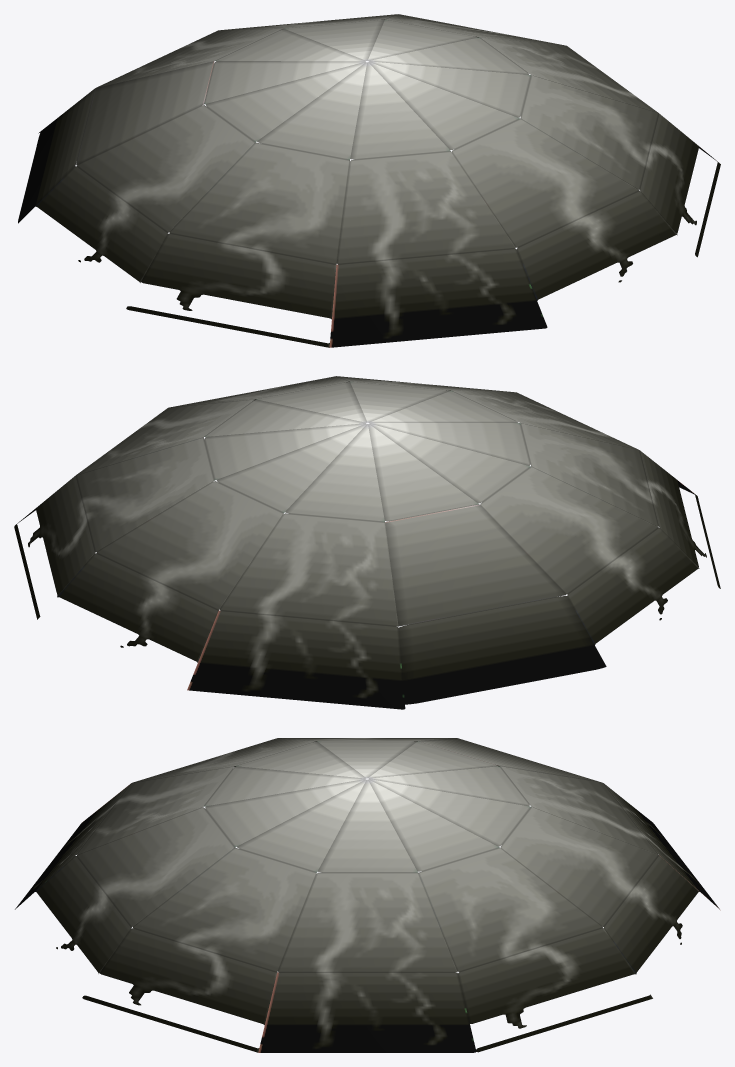
3 renders of one model, top to bottom at view 1: azimuth 30°, elevation 25°; view 2: azimuth 150°, elevation 25°; view 3: azimuth 270°, elevation 25°, orthographic. The views are drawn at different scales.
Visible parts, largest first — view 1: T1L5M004_7; view 2: T1L5M004_7; view 3: T1L5M004_7.
Part boxes in pixels (x1=…): T1L5M004_7: x1=18, y1=14, x2=720, y2=347; T1L5M004_7: x1=14, y1=376, x2=720, y2=709; T1L5M004_7: x1=15, y1=738, x2=720, y2=1052.
Size of the model in its own units: 1.52 by 0.3301 by 1.6.
